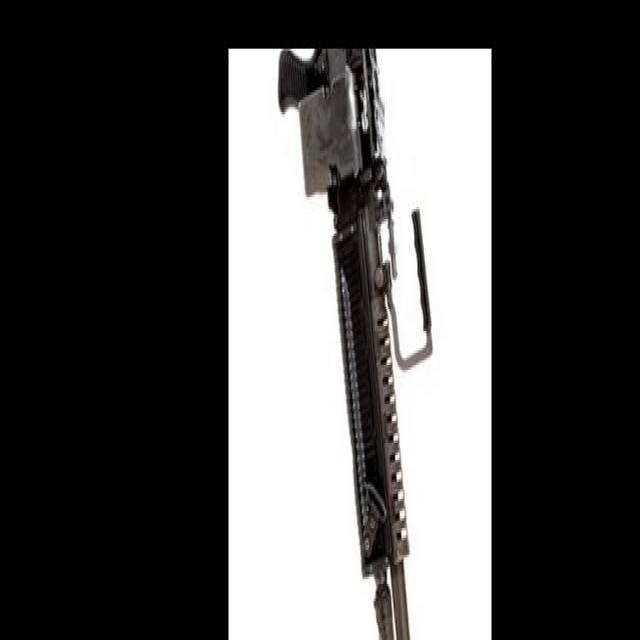weapon: (276, 50, 433, 640)
